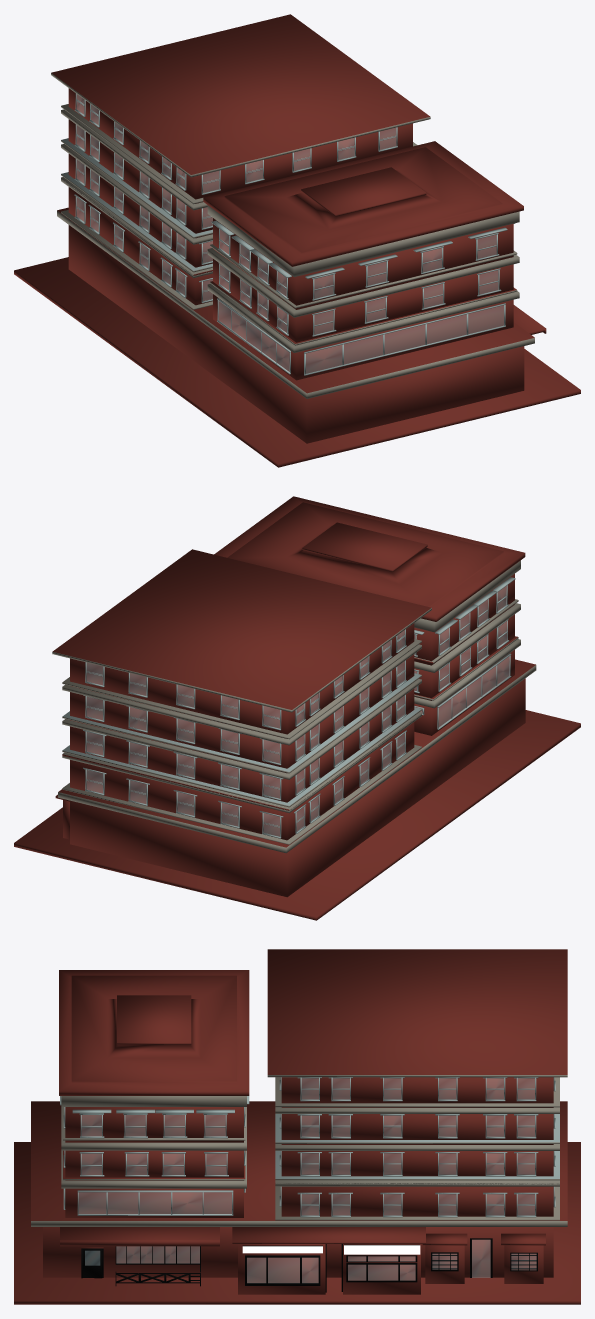
Rendered from apartment1.glb.
3 views of the same model, one above another, from view 1: azimuth 30°, elevation 25°; view 2: azimuth 150°, elevation 25°; view 3: azimuth 270°, elevation 25° (orthographic). The views are drawn at different scales.
Visible parts, largest first — view 1: Large apartment Building; view 2: Large apartment Building; view 3: Large apartment Building.
Part boxes in pixels (<box>): Large apartment Building: <box>14,14,580,467</box>; Large apartment Building: <box>14,496,580,920</box>; Large apartment Building: <box>14,949,580,1304</box>.
Bounding box in the file's own units: 86.4 × 54.14 × 131.
